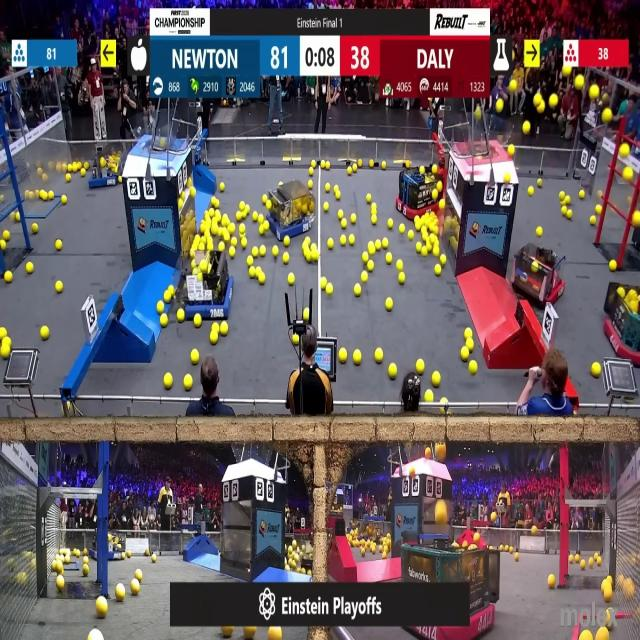ball_airborne: (437, 499, 448, 524), (437, 444, 448, 463), (590, 86, 600, 101), (574, 75, 583, 90), (603, 108, 612, 123), (624, 168, 633, 182), (621, 144, 630, 157), (550, 96, 558, 110), (564, 63, 572, 77), (510, 80, 519, 92), (496, 100, 503, 114), (524, 120, 531, 134), (507, 144, 515, 156), (426, 448, 432, 460), (534, 95, 540, 107), (475, 108, 480, 120), (538, 104, 544, 114), (504, 173, 509, 184)
ball_ground: (97, 596, 109, 617), (0, 339, 11, 359), (115, 585, 124, 602), (592, 362, 602, 376), (431, 373, 440, 388), (376, 348, 384, 364), (132, 581, 140, 597), (603, 588, 612, 602), (597, 628, 608, 639), (190, 349, 198, 364), (388, 363, 396, 378), (354, 350, 362, 365), (58, 577, 66, 592), (164, 373, 171, 390), (417, 359, 425, 373), (341, 348, 348, 364), (184, 376, 192, 390), (193, 314, 201, 327), (425, 389, 433, 402), (460, 348, 468, 361), (468, 360, 476, 373), (41, 326, 49, 339), (386, 298, 393, 312), (211, 334, 219, 346), (162, 314, 169, 327), (304, 309, 311, 322), (464, 327, 472, 338), (4, 273, 12, 284), (178, 310, 185, 322), (136, 568, 143, 580), (220, 322, 227, 334), (57, 280, 64, 292), (258, 274, 266, 284), (312, 251, 320, 261), (355, 283, 361, 296), (207, 239, 213, 252), (325, 284, 332, 295), (361, 272, 367, 284), (288, 273, 294, 285), (320, 278, 326, 290), (432, 244, 438, 256), (398, 273, 404, 285), (27, 264, 34, 274), (230, 248, 237, 258), (375, 241, 382, 251), (284, 237, 291, 247), (341, 236, 348, 246), (230, 223, 237, 233), (382, 239, 388, 250), (435, 266, 441, 277), (57, 240, 63, 251), (386, 252, 392, 263), (159, 303, 165, 314), (249, 268, 255, 279), (221, 214, 227, 225), (466, 340, 472, 351), (40, 190, 47, 199), (421, 247, 428, 256), (349, 236, 356, 245), (396, 261, 403, 270), (241, 238, 247, 248), (327, 239, 333, 249), (409, 231, 415, 241), (441, 254, 447, 264), (32, 222, 38, 232), (0, 327, 6, 337), (247, 255, 253, 265), (561, 207, 567, 217), (362, 252, 368, 262), (259, 246, 265, 256), (252, 246, 258, 256), (365, 192, 371, 202), (566, 210, 572, 220), (0, 240, 6, 250), (528, 186, 534, 196), (212, 225, 218, 235), (231, 238, 238, 246), (538, 226, 545, 234), (367, 262, 372, 273), (351, 213, 356, 224), (284, 252, 289, 263), (83, 564, 88, 575), (471, 339, 476, 350), (417, 242, 422, 253), (66, 173, 72, 182), (47, 190, 53, 199), (252, 212, 258, 221), (370, 204, 376, 213), (536, 228, 542, 237), (218, 243, 224, 252), (214, 200, 220, 209), (201, 220, 205, 233), (273, 246, 278, 256), (240, 222, 245, 232), (324, 203, 329, 213), (441, 200, 446, 210), (339, 210, 344, 220), (4, 231, 9, 241), (388, 218, 393, 228), (398, 224, 404, 232), (58, 239, 64, 247), (237, 212, 243, 220), (308, 180, 314, 188), (336, 190, 342, 198), (209, 209, 215, 217), (442, 396, 448, 404), (590, 216, 596, 224), (342, 219, 348, 227), (348, 167, 353, 176), (382, 553, 388, 560), (371, 216, 376, 224), (258, 214, 263, 222), (14, 212, 19, 220), (294, 335, 298, 345), (259, 224, 263, 234), (75, 549, 80, 557), (441, 408, 446, 416), (368, 161, 372, 170), (240, 202, 244, 211), (80, 170, 85, 177), (517, 554, 521, 562), (220, 183, 224, 191), (151, 555, 155, 563), (537, 179, 541, 187), (66, 556, 70, 564), (146, 549, 150, 557), (128, 552, 133, 558), (353, 166, 357, 173), (194, 236, 198, 243), (85, 567, 88, 576), (308, 569, 312, 575), (121, 553, 124, 560), (582, 560, 584, 568)
goal: (460, 116, 515, 159), (130, 118, 187, 152)
robot_blue: (180, 252, 233, 318), (267, 181, 316, 238), (88, 147, 119, 187), (358, 518, 387, 542)
robot_red: (514, 246, 563, 308), (604, 284, 640, 365), (397, 163, 442, 219)
